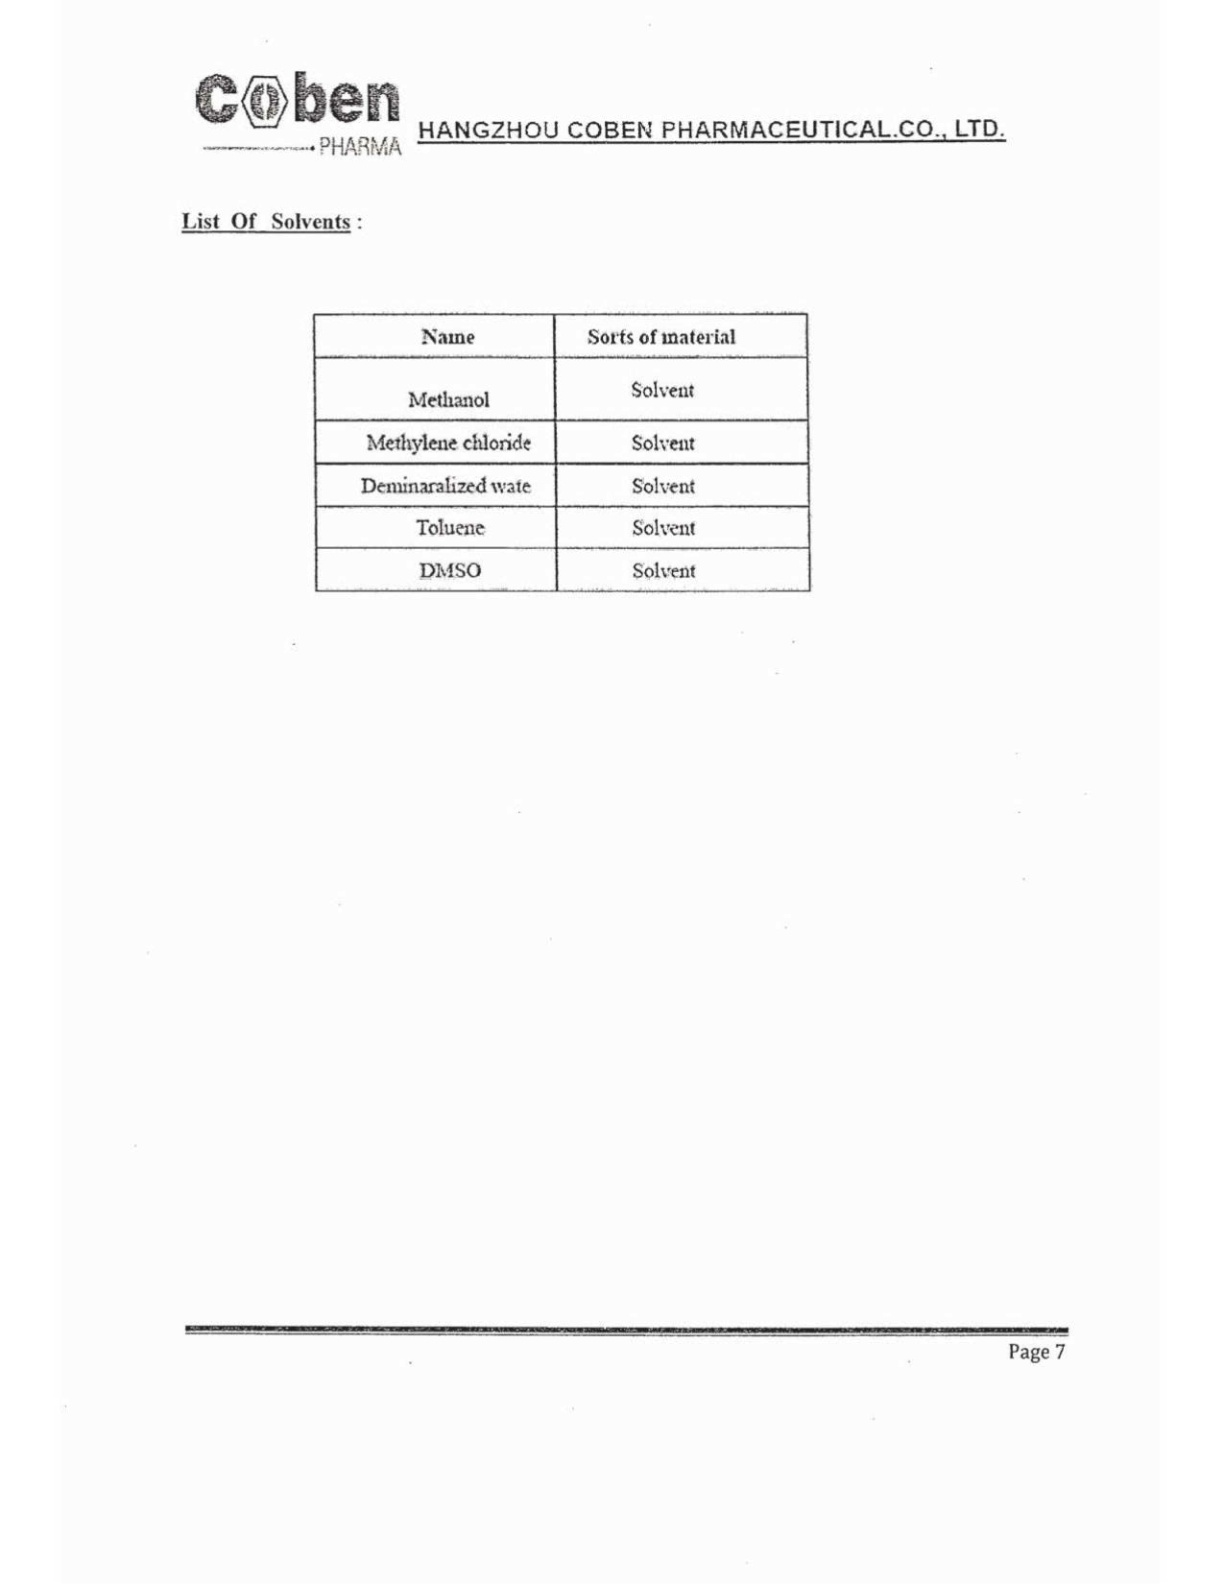full_lined: (312, 311, 811, 593)
